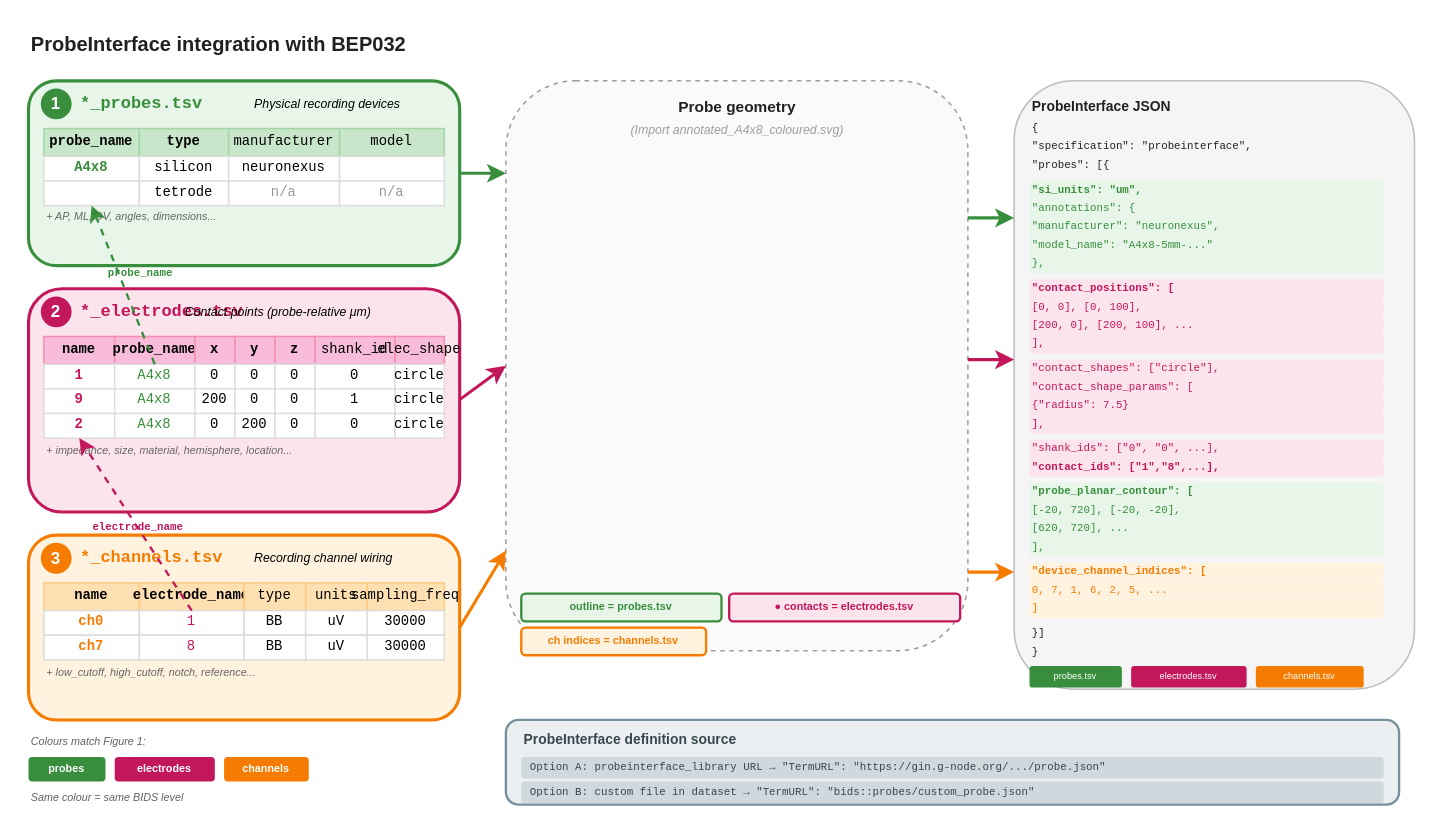
The diagram is 1441 pixels wide and 835 high, and some of its shapes have lost their labels. The shapes that lost their labels are listed below. From the top down, each one's box as (x1, y1, x2, y2) in pixels, then its label:
(338, 155, 444, 181): A4x8-5mm...
(42, 179, 139, 206): TET01
